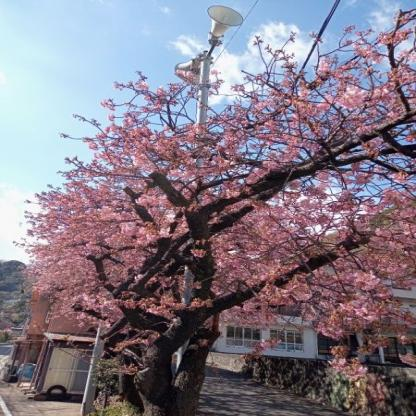KawazuSakura: (10, 1, 415, 414)
